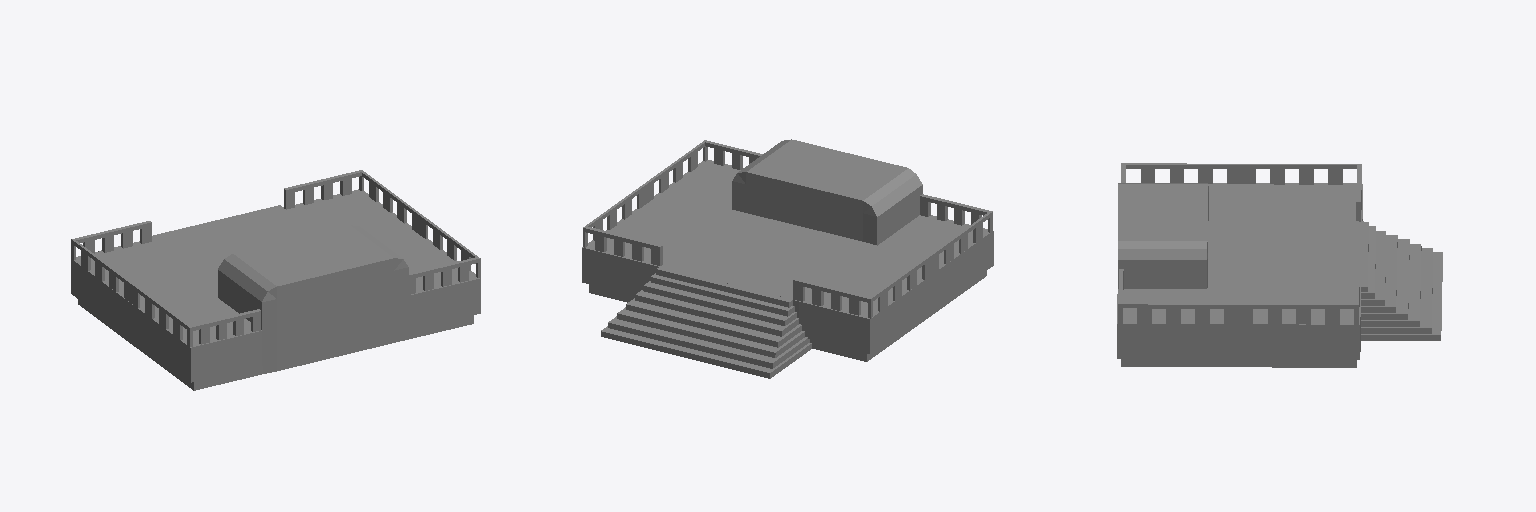
File: rueda_fortuna_parteTres.obj
3 renders of one model, left to right at view 1: azimuth 30°, elevation 25°; view 2: azimuth 150°, elevation 25°; view 3: azimuth 270°, elevation 25°, orthographic.
Visible parts, largest first — view 1: Plataform_Cube_001, Wall_Cube_003; view 2: Plataform_Cube_001, Stairs_Cube_002, Wall_Cube_003; view 3: Plataform_Cube_001, Stairs_Cube_002, Wall_Cube_003.
Boxes of the visible parts, x1,y1,x2,y2 form: Plataform_Cube_001: [71, 189, 480, 390]; Wall_Cube_003: [71, 170, 480, 346]; Plataform_Cube_001: [582, 139, 993, 361]; Stairs_Cube_002: [601, 267, 811, 378]; Wall_Cube_003: [583, 140, 992, 318]; Plataform_Cube_001: [1117, 183, 1362, 367]; Stairs_Cube_002: [1361, 221, 1442, 340]; Wall_Cube_003: [1118, 163, 1361, 324].
Bounding box in the file's own units: 14.1 × 4.01 × 13.68.